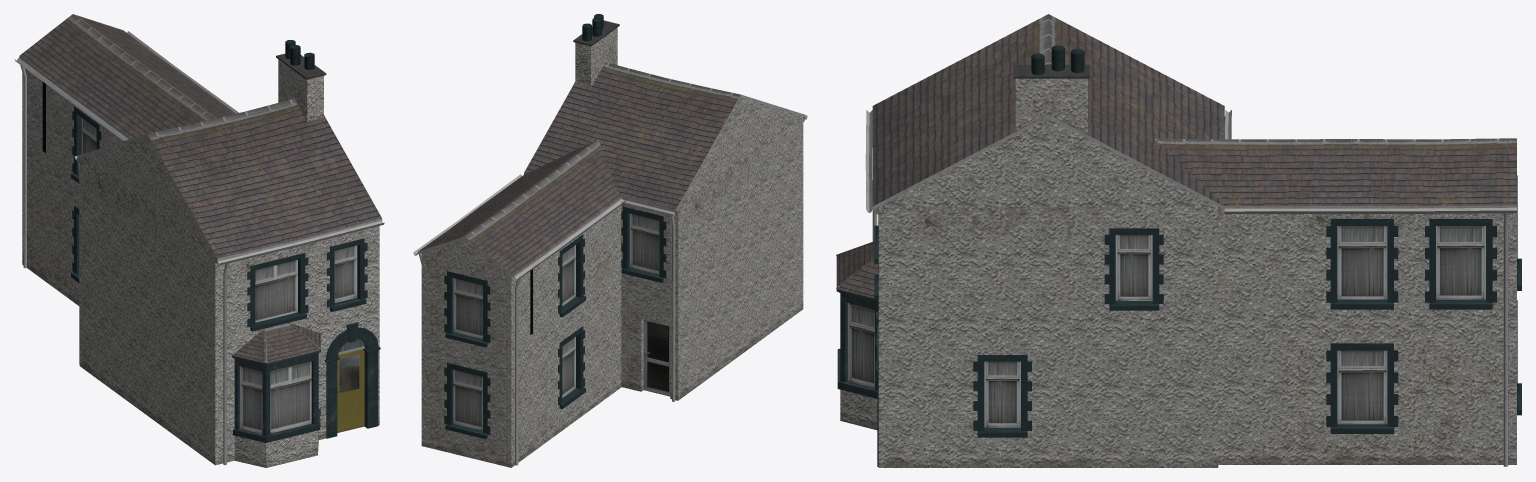
Rendered from ukterracedvictorianc3b.FBX.
The picture shows the model from 3 angles, left to right: view 1: azimuth 30°, elevation 25°; view 2: azimuth 150°, elevation 25°; view 3: azimuth 270°, elevation 25°; orthographic projection. The views are drawn at different scales.
Parts seen in each view (by area): view 1: Object003; view 2: Object003; view 3: Object003.
Part boxes in pixels (left/top/right/bottom): Object003: left=14, top=14, right=384, bottom=467; Object003: left=413, top=14, right=807, bottom=467; Object003: left=836, top=14, right=1521, bottom=467.
Size of the model in its own units: 572 by 1073 by 1615.
